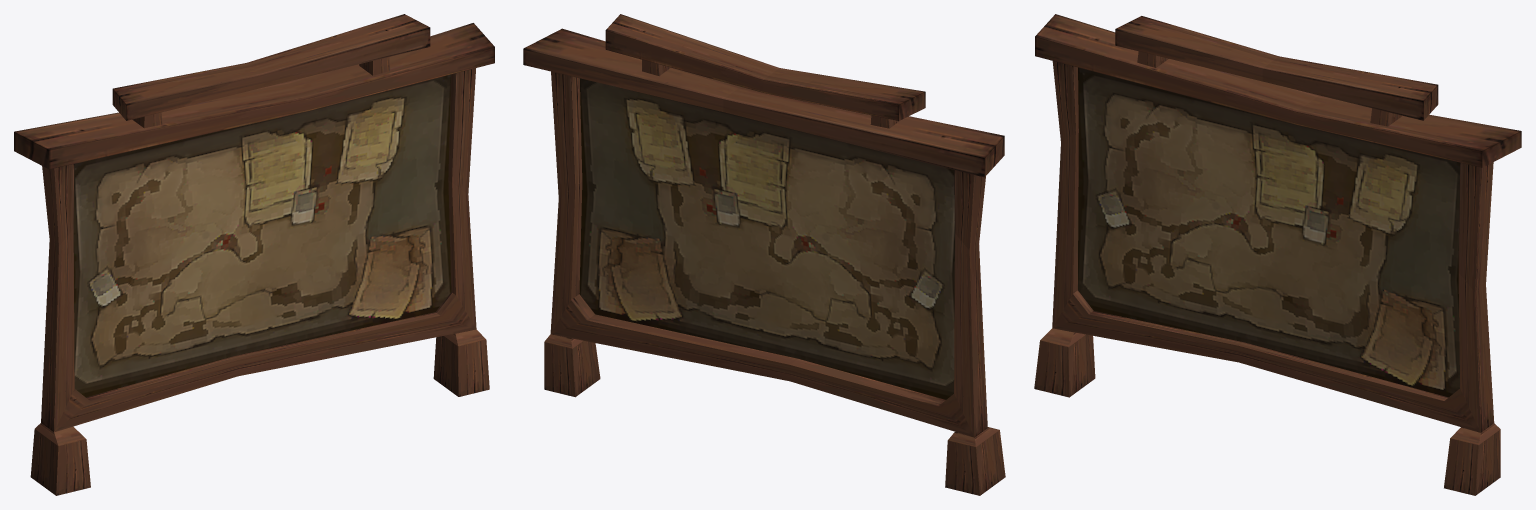
Rendered from 2_WGJ_GaoShiPai_01.FBX.
3 renders of one model, left to right at view 1: azimuth 30°, elevation 25°; view 2: azimuth 150°, elevation 25°; view 3: azimuth 330°, elevation 25°, orthographic.
Parts seen in each view (by area): view 1: 2_WGJ_GaoShiPai_01; view 2: 2_WGJ_GaoShiPai_01; view 3: 2_WGJ_GaoShiPai_01.
Part boxes in pixels (box(x1,y1,x2,y2)): 2_WGJ_GaoShiPai_01: box(14, 14, 494, 495); 2_WGJ_GaoShiPai_01: box(523, 14, 1005, 495); 2_WGJ_GaoShiPai_01: box(1034, 14, 1521, 495).
Size of the model in its own units: 586 by 454 by 69.83.
